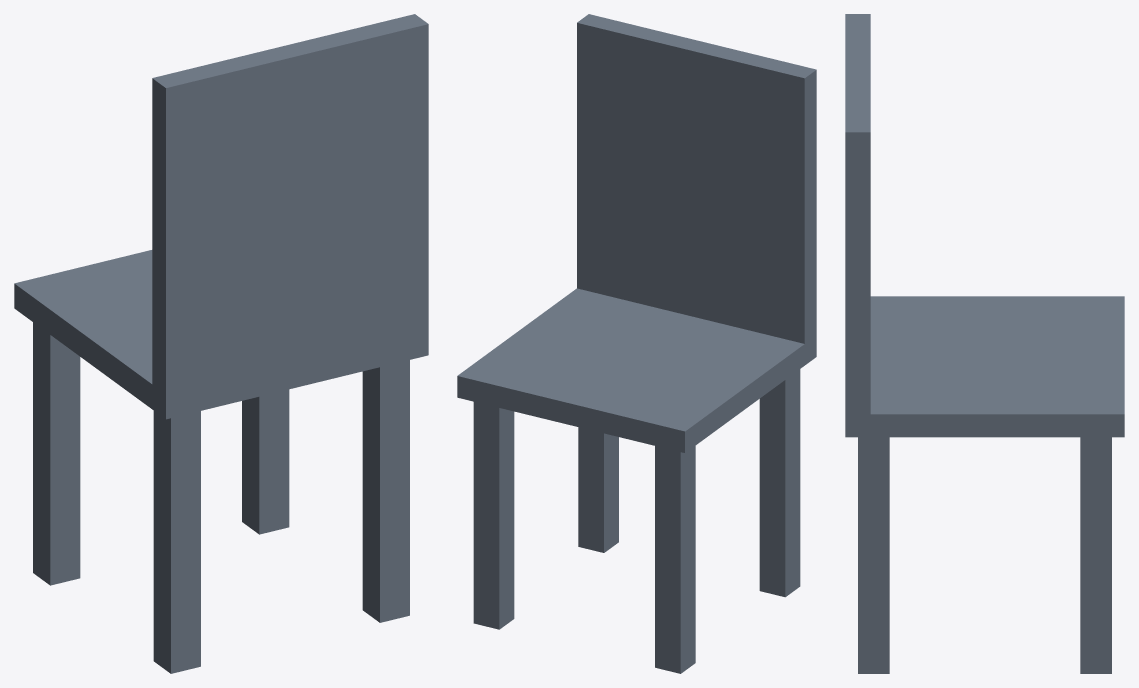
The model's file is chair.glb.
The picture shows the model from 3 angles, left to right: view 1: azimuth 30°, elevation 25°; view 2: azimuth 150°, elevation 25°; view 3: azimuth 270°, elevation 25°; orthographic projection. The views are drawn at different scales.
Parts seen in each view (by area): view 1: chair; view 2: chair; view 3: chair.
Part boxes in pixels (x1,y1,x2,y2): chair: [14, 14, 428, 673]; chair: [457, 14, 816, 673]; chair: [845, 14, 1124, 673].
Bounding box in the file's own units: 0.44 × 0.95 × 0.44.
